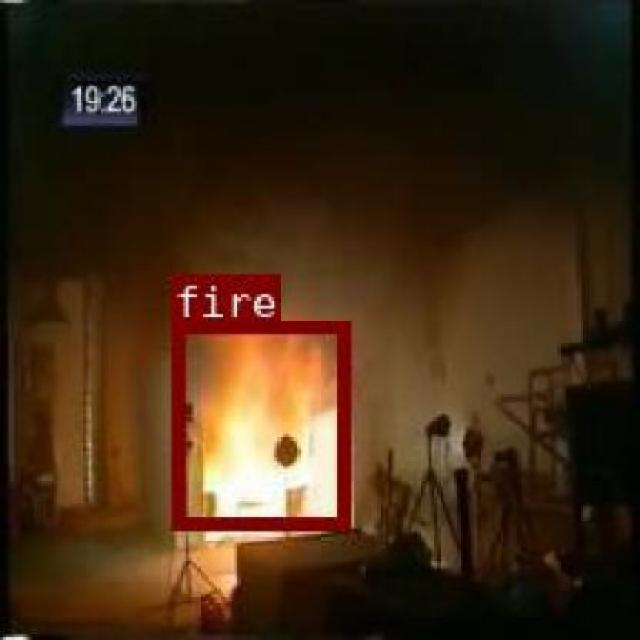Fire: (170, 319, 350, 527)
